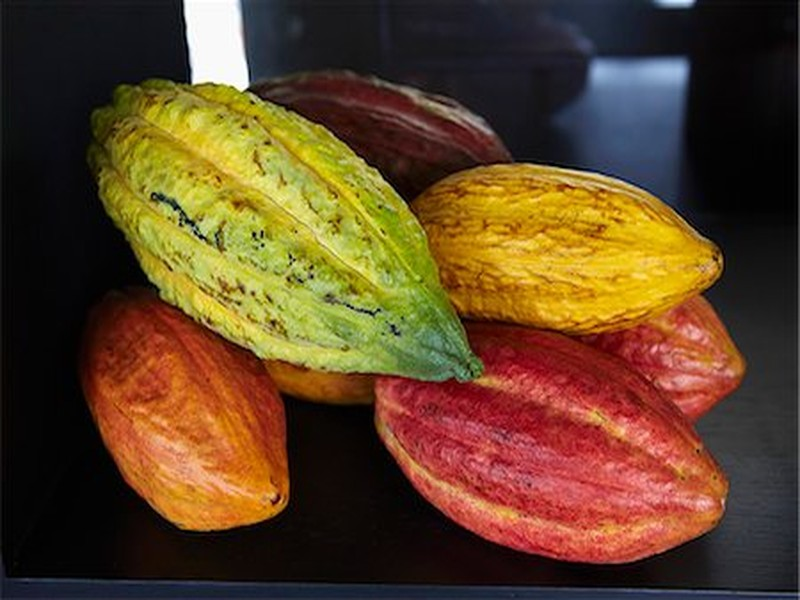Cacaopod: (81, 73, 481, 389), (409, 161, 725, 338)
